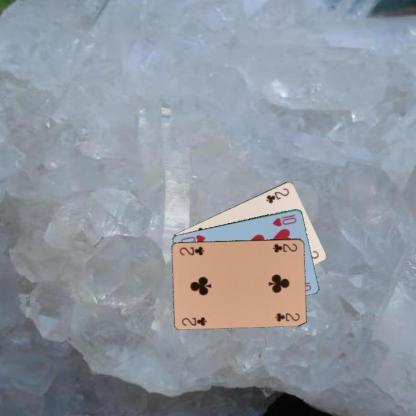10h: (270, 211, 298, 228)
2c: (263, 186, 290, 204), (180, 314, 209, 327), (270, 241, 298, 253)
